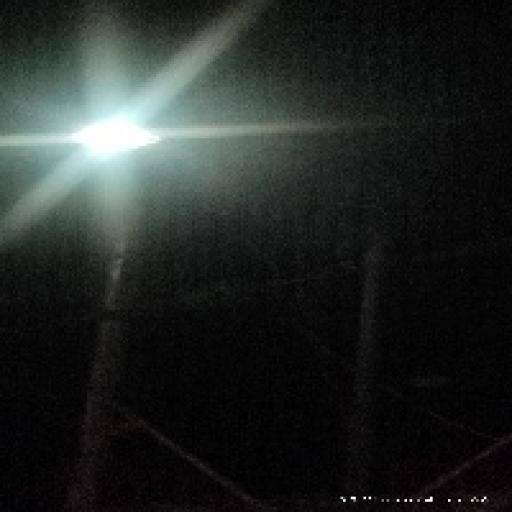Working: (66, 106, 160, 174)
